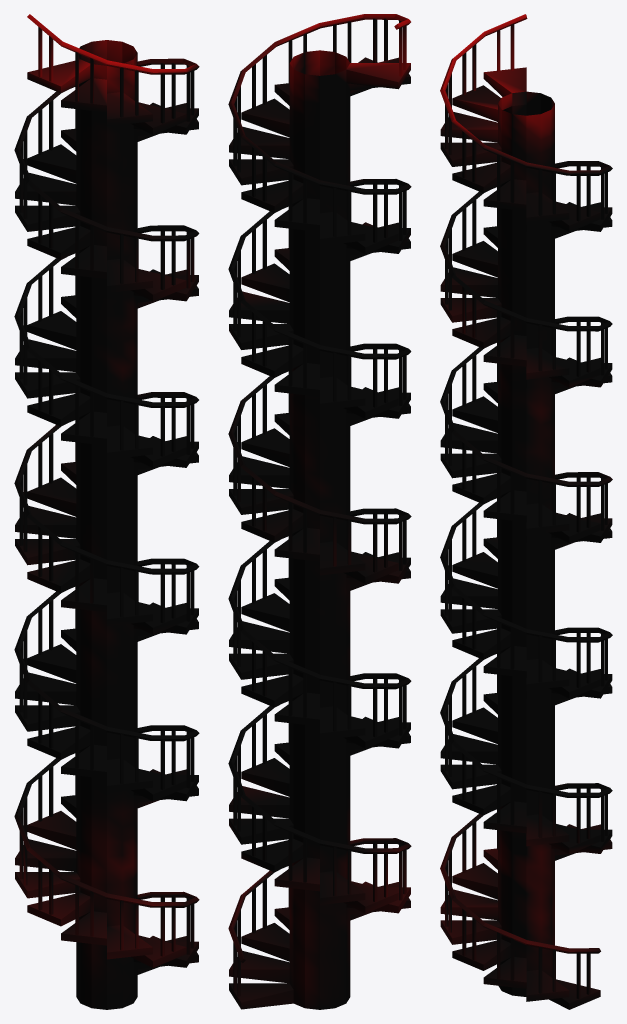
Rendered from StairwellTowerUpper_export.obj.
3 views of the same model, side by side, from view 1: azimuth 30°, elevation 25°; view 2: azimuth 150°, elevation 25°; view 3: azimuth 270°, elevation 25° (orthographic). The views are drawn at different scales.
Parts seen in each view (by area): view 1: StairwellTowerUpper; view 2: StairwellTowerUpper; view 3: StairwellTowerUpper.
Boxes of the visible parts, left/top/right/bottom form: StairwellTowerUpper: left=14, top=14, right=199, bottom=1009; StairwellTowerUpper: left=228, top=14, right=411, bottom=1009; StairwellTowerUpper: left=440, top=14, right=612, bottom=1009.
Size of the model in its own units: 3.02 by 18.05 by 3.02.
